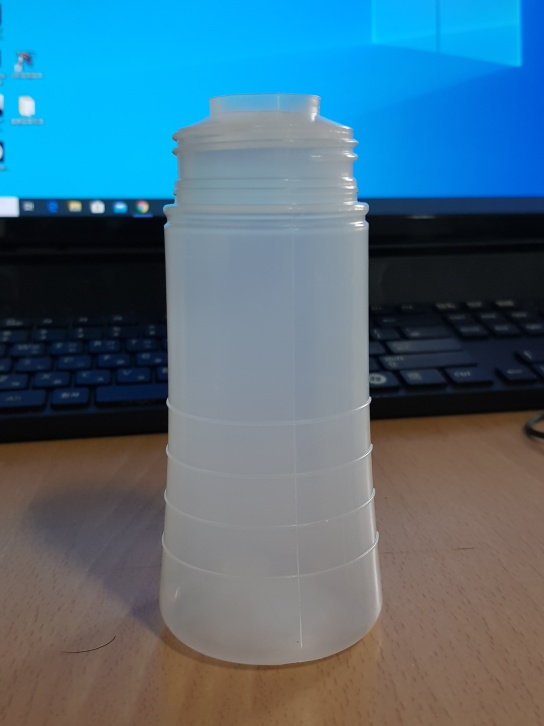Plastic: (155, 93, 379, 665)
